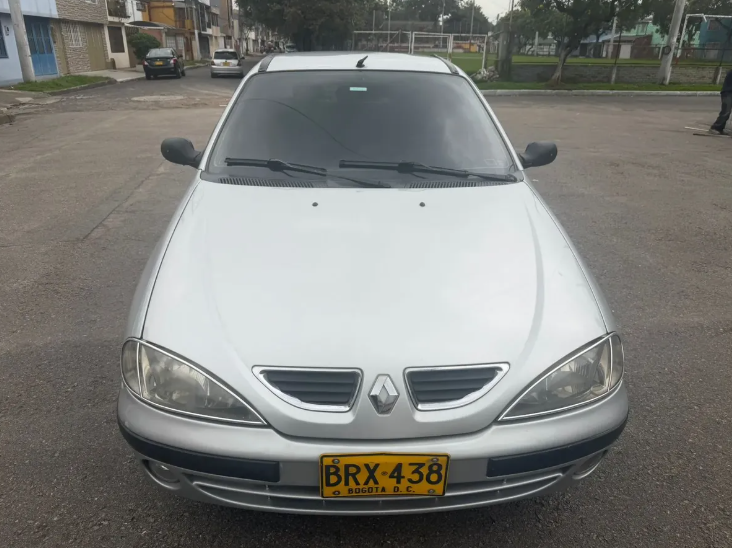placa: (318, 452, 454, 500)
